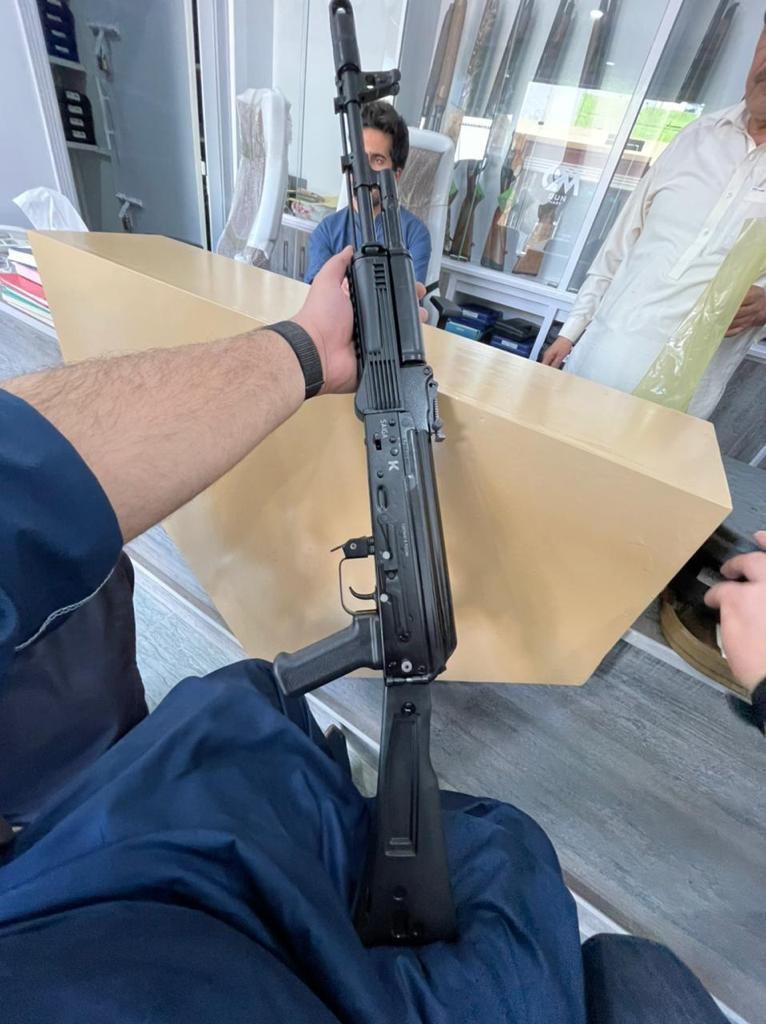weapon: (273, 0, 460, 944)
